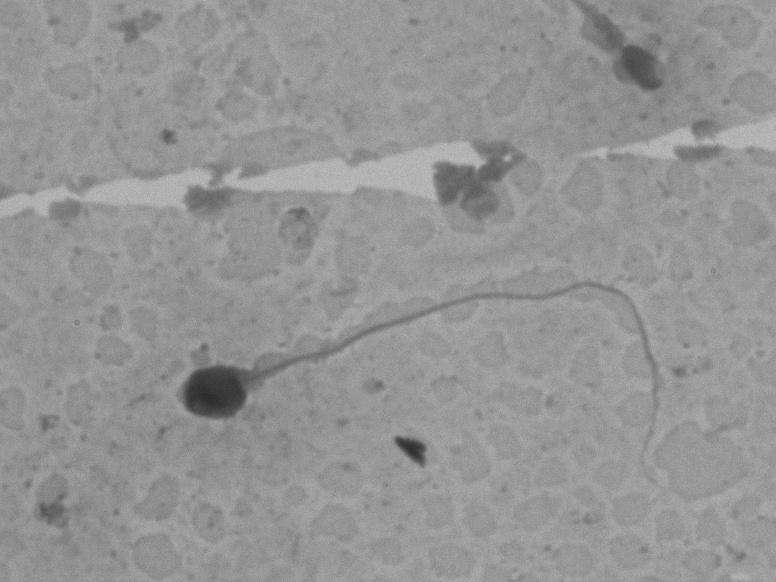Abnormal: (153, 245, 685, 493)
